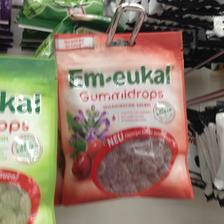Suessigkeit: (50, 30, 193, 198), (0, 54, 68, 220)
